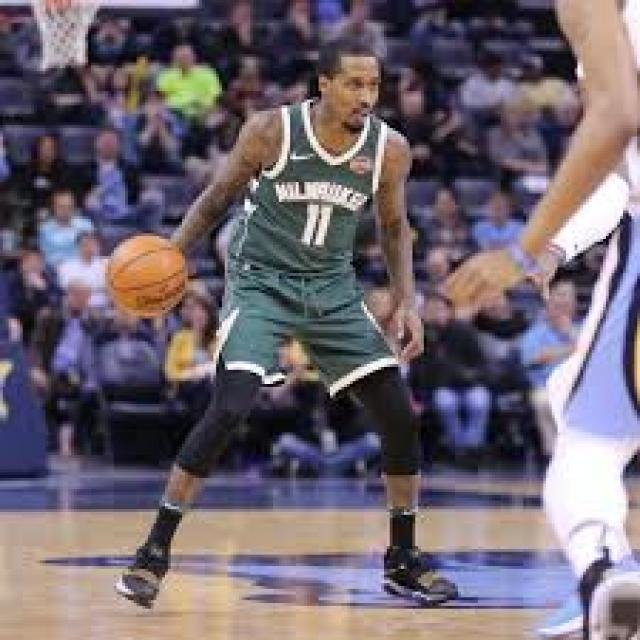rim: (111, 239, 185, 313)
